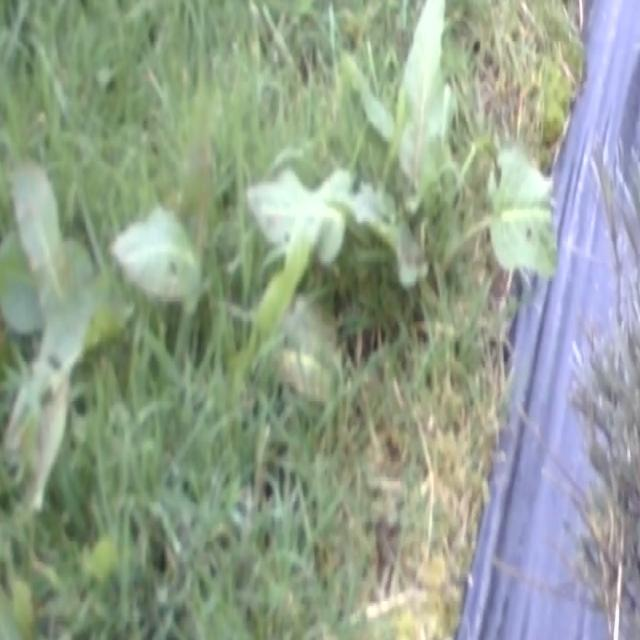organic waste: (242, 8, 558, 396), (0, 126, 211, 491)
